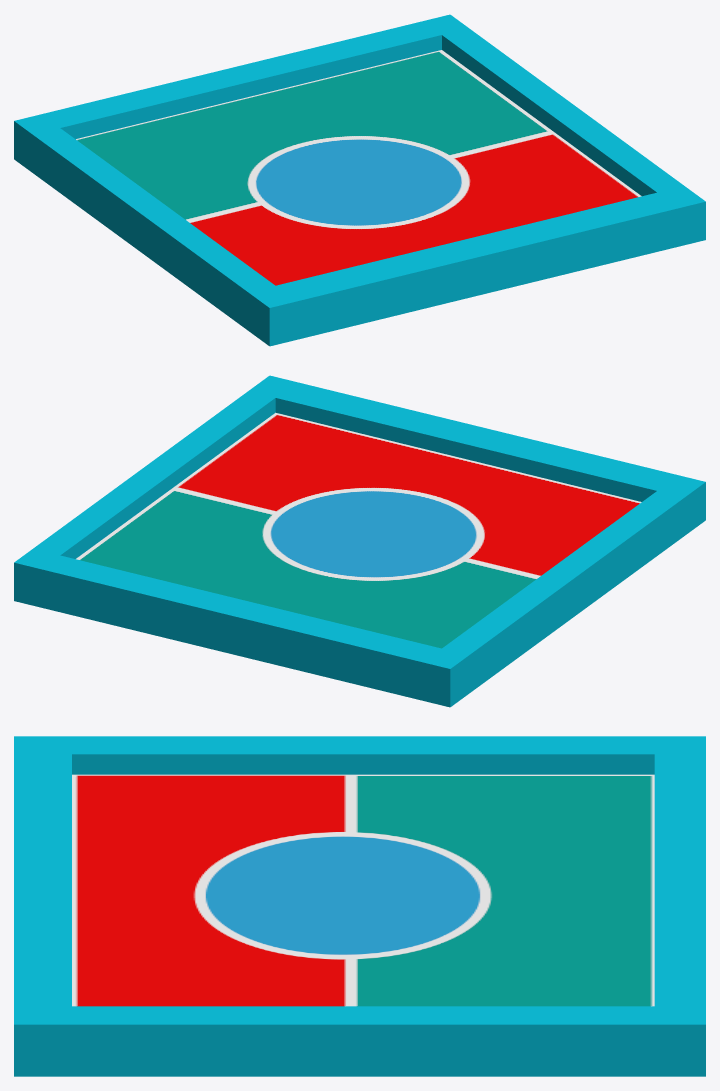
The model's file is Game_1.fbx.
The picture shows the model from 3 angles, top to bottom: view 1: azimuth 30°, elevation 25°; view 2: azimuth 150°, elevation 25°; view 3: azimuth 270°, elevation 25°; orthographic projection. The views are drawn at different scales.
Visible parts, largest first — view 1: Cube; view 2: Cube; view 3: Cube.
Boxes of the visible parts, x1,y1,x2,y2 form: Cube: (14, 14, 705, 346); Cube: (14, 375, 705, 707); Cube: (14, 736, 705, 1076).
Size of the model in its own units: 3977 by 335 by 4036.
